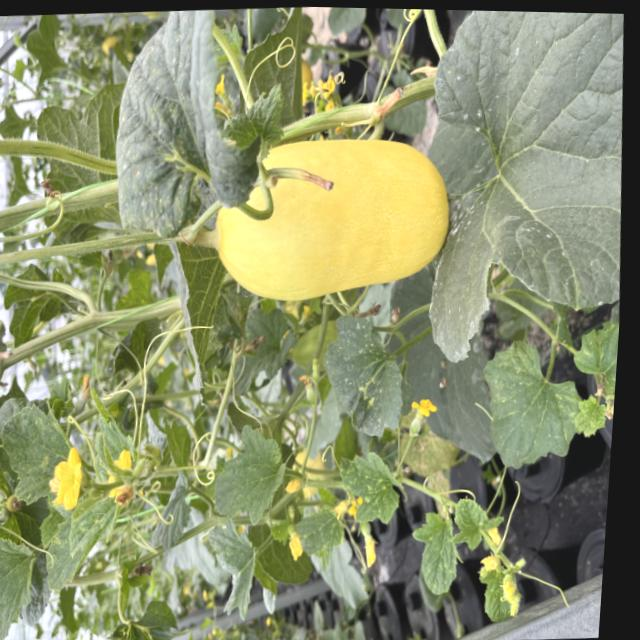CMV: (0, 396, 65, 512)
downy mildew: (98, 5, 290, 253), (474, 334, 588, 476), (208, 415, 291, 528), (332, 442, 409, 535), (405, 510, 468, 607), (563, 306, 620, 408), (64, 484, 125, 560), (0, 534, 43, 640), (444, 490, 510, 555), (473, 562, 516, 628)
powdery mildew: (401, 9, 640, 364), (309, 304, 413, 438)
